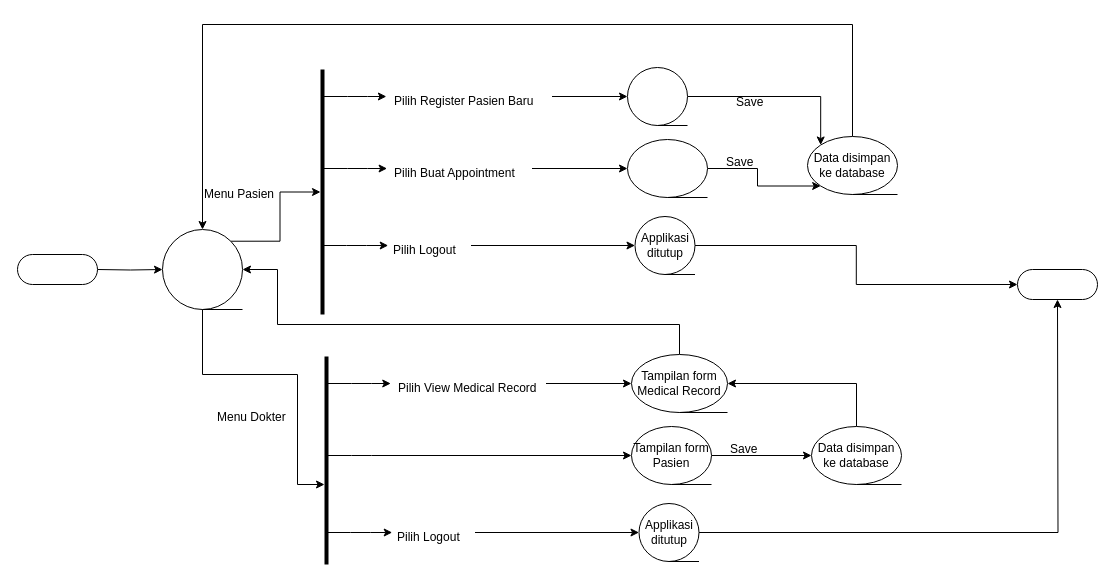
Image size: 1115x584. Some labels were removed from this diagram. Each missing label, with the centre of its shape:
Menu Awal: point (202, 269)
Tampilan form Appointment: point (667, 168)
Tampilan form Regist: point (657, 96)
